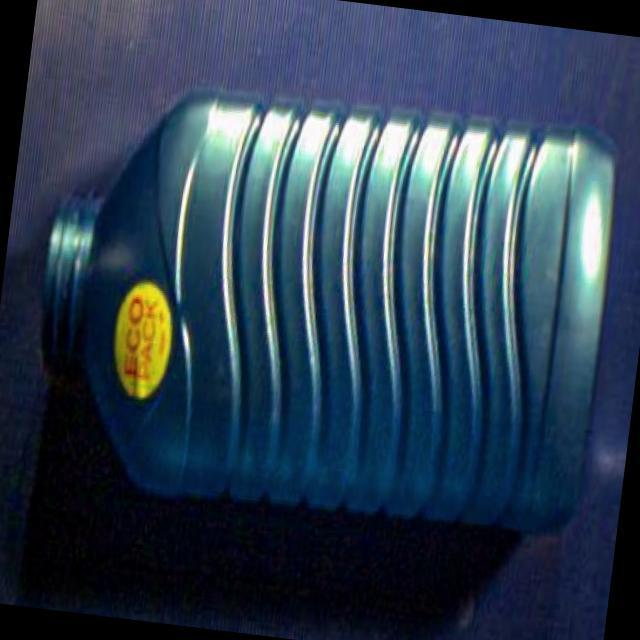HDPE Plastic: (34, 87, 622, 539)
